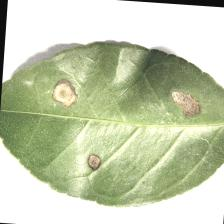canker: (42, 75, 204, 191)
